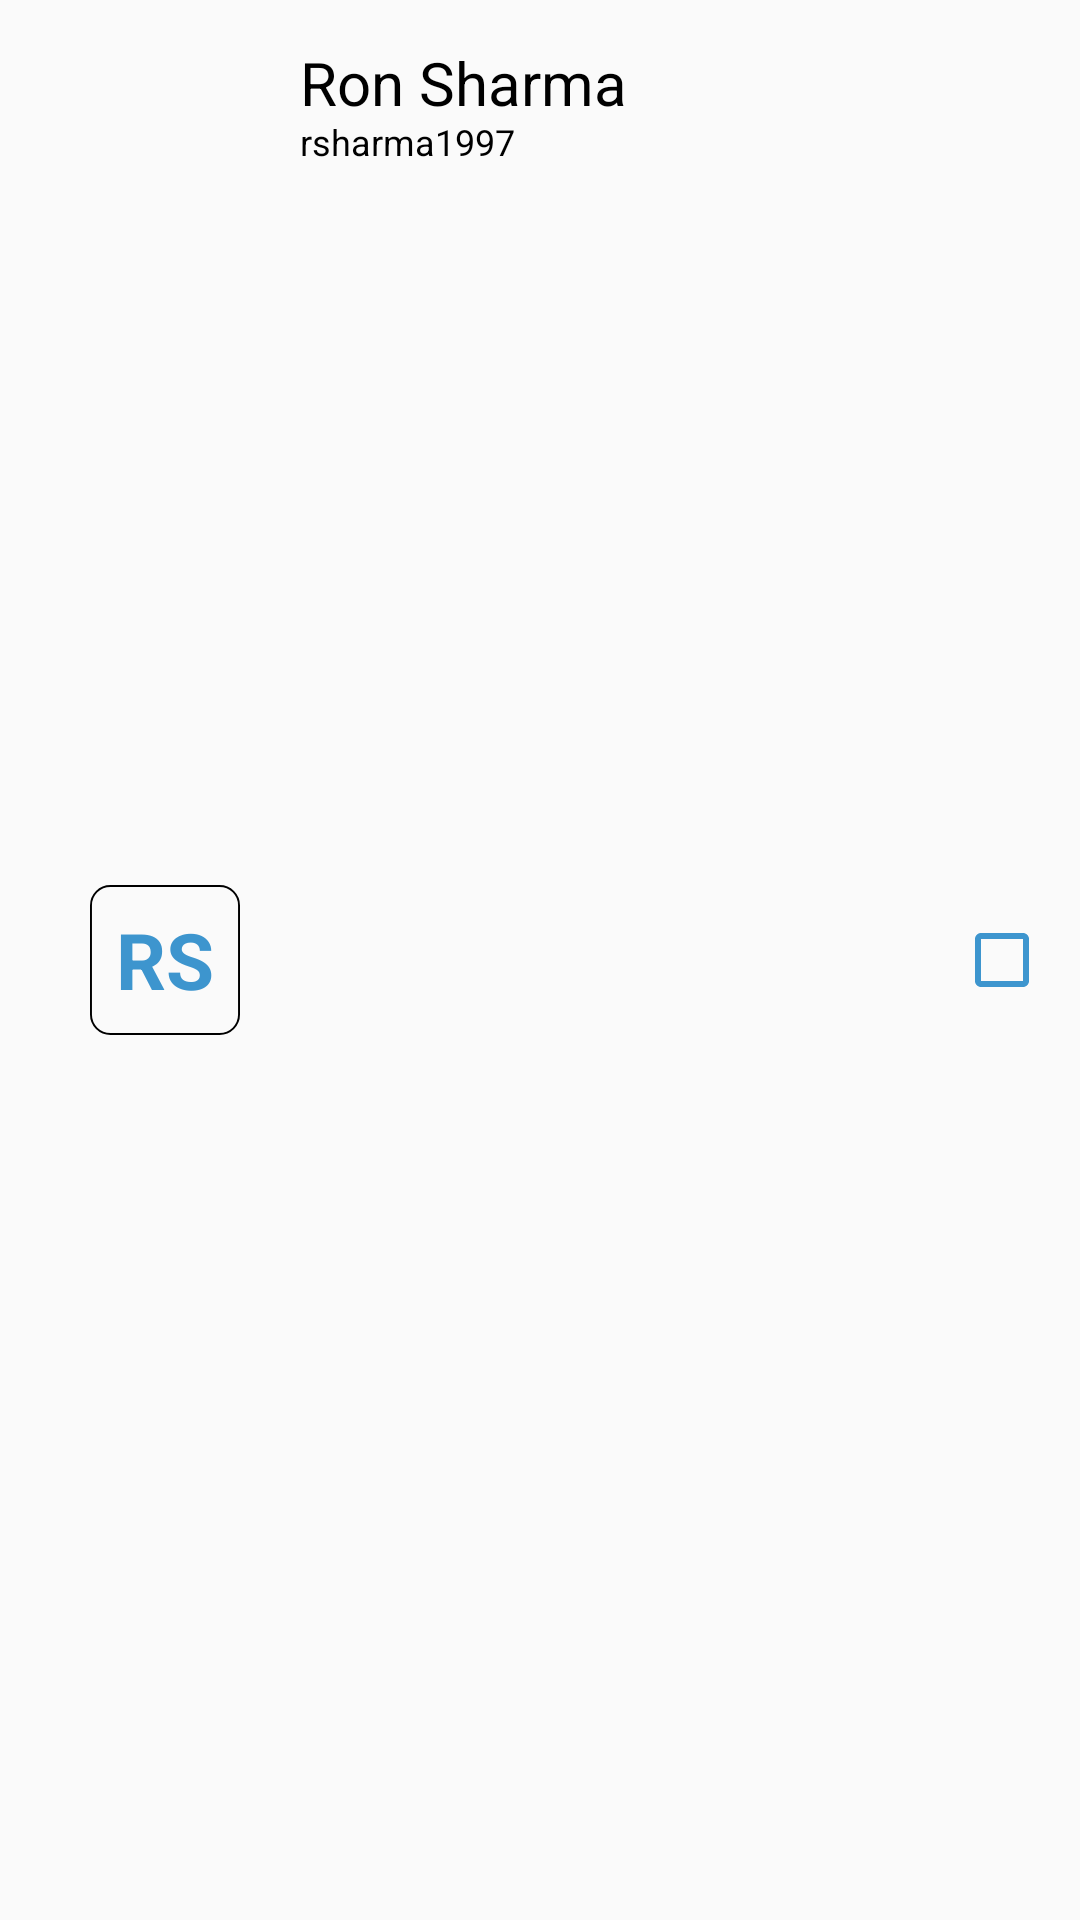

Icons on this 1080 × 1920 Android screen, each with the point to tap as [x,y]:
userbox: [165,960]
